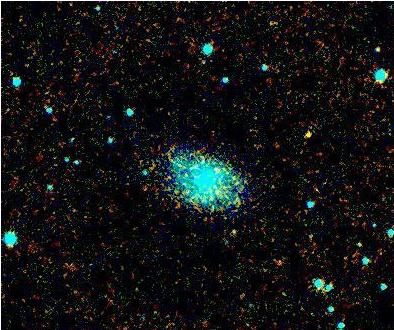star: (220, 217, 250, 247)
